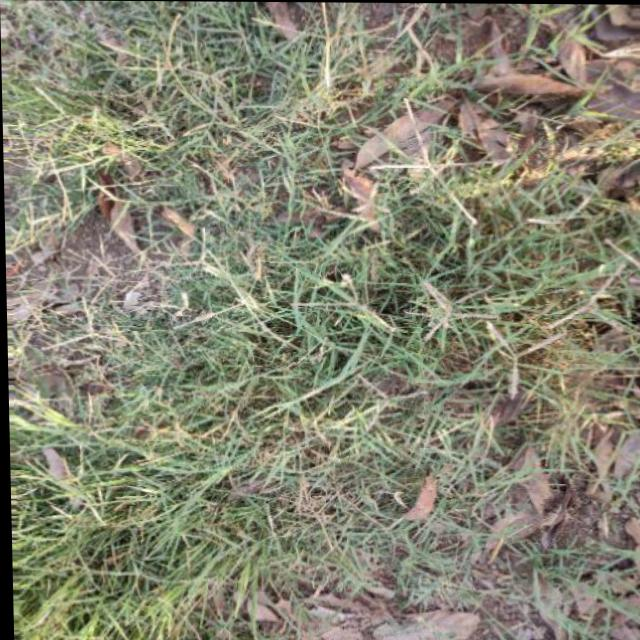weed: (48, 38, 614, 592)
